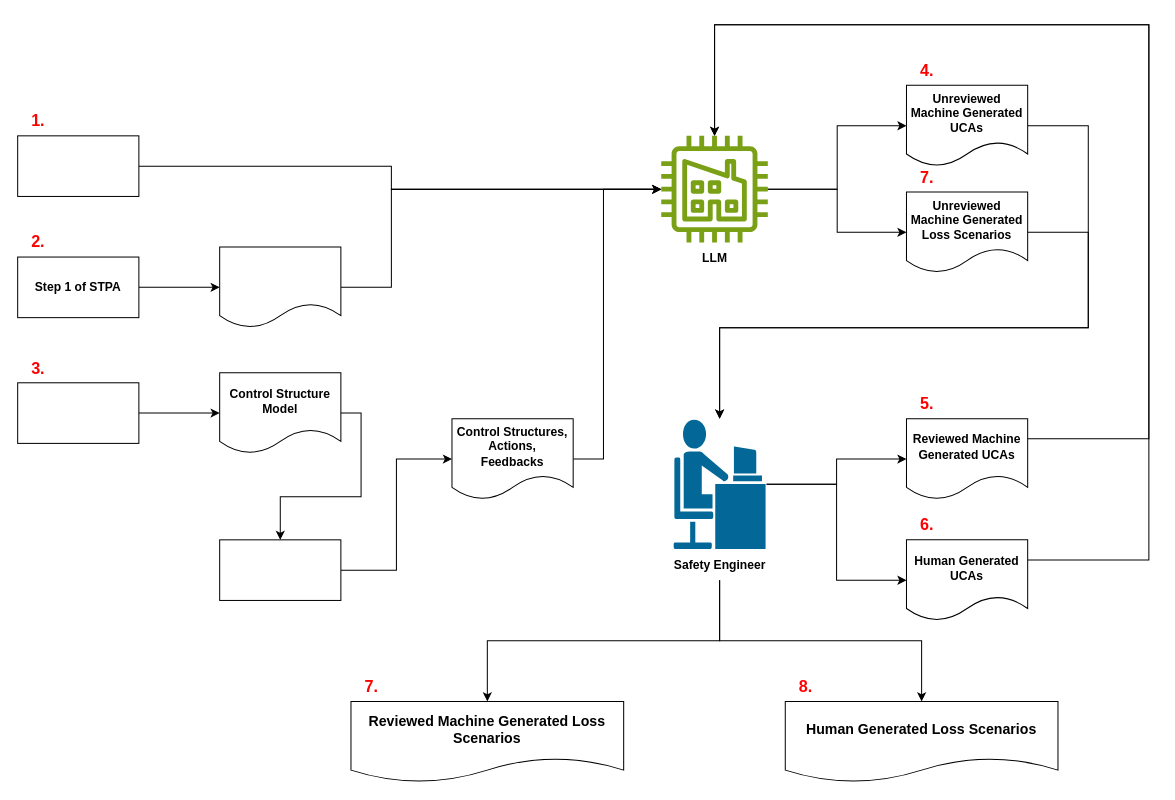
The diagram is 1175 pixels wide and 800 high, and some of its shapes have lost their labels. The box of each missing label's shape, as (x1, y1, x2, y2) in pixels:
Losses, Hazards, Constraints: (219, 246, 341, 328)
Model of STPA: (17, 135, 139, 196)
Model Parser: (219, 539, 341, 600)
Step 2 of STPA: (17, 382, 139, 443)
